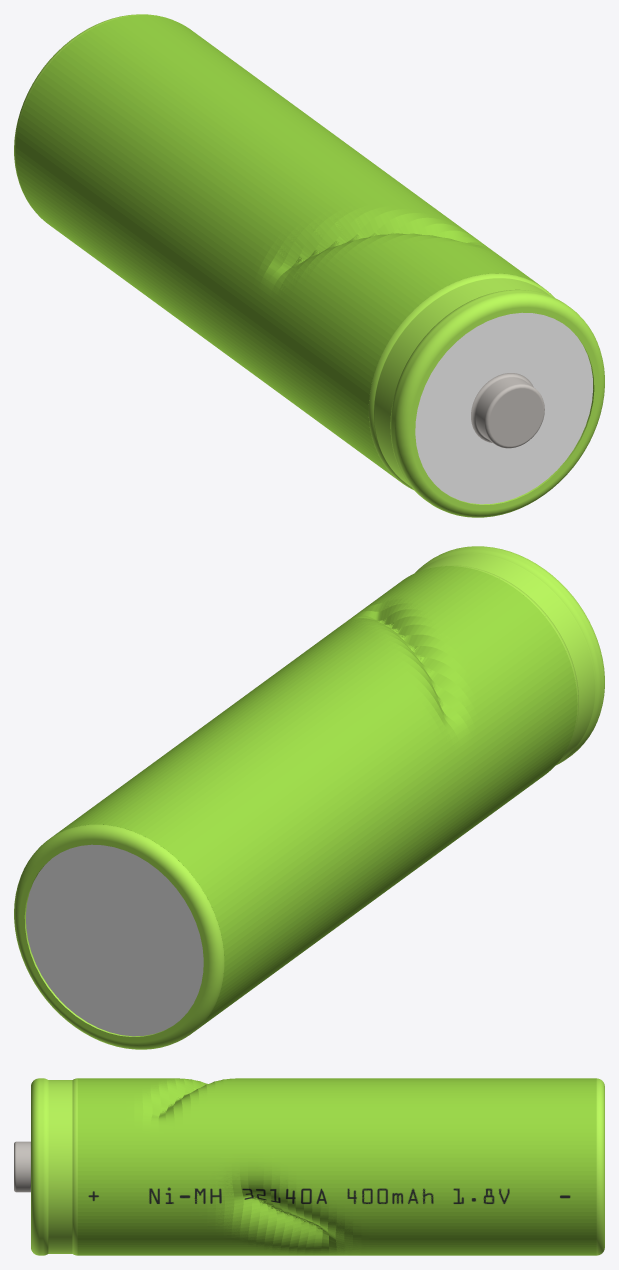
The model's file is defect_9.glb.
The picture shows the model from 3 angles, top to bottom: view 1: azimuth 30°, elevation 25°; view 2: azimuth 150°, elevation 25°; view 3: azimuth 270°, elevation 25°; orthographic projection. The views are drawn at different scales.
Visible parts, largest first — view 1: Cylinder, Cell_Top; view 2: Cylinder, Cell_bottom, Cell_Top; view 3: Cylinder, Cell_Top, Cell_bottom.
Boxes of the visible parts, <box> form: Cylinder: <box>15,15,550,480</box>; Cell_Top: <box>368,273,604,517</box>; Cylinder: <box>41,566,577,1031</box>; Cell_bottom: <box>14,824,224,1049</box>; Cell_Top: <box>415,546,604,765</box>; Cylinder: <box>77,1078,596,1255</box>; Cell_Top: <box>14,1078,77,1255</box>; Cell_bottom: <box>596,1078,604,1255</box>.
Size of the model in its own units: 0.021 by 0.021 by 0.07.
Materials: 10 (1 with a texture image).
